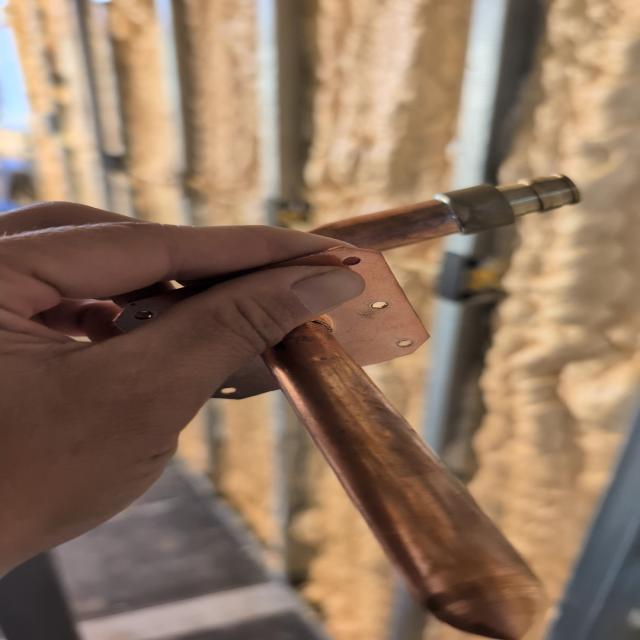wall_flange: (119, 165, 594, 640)
